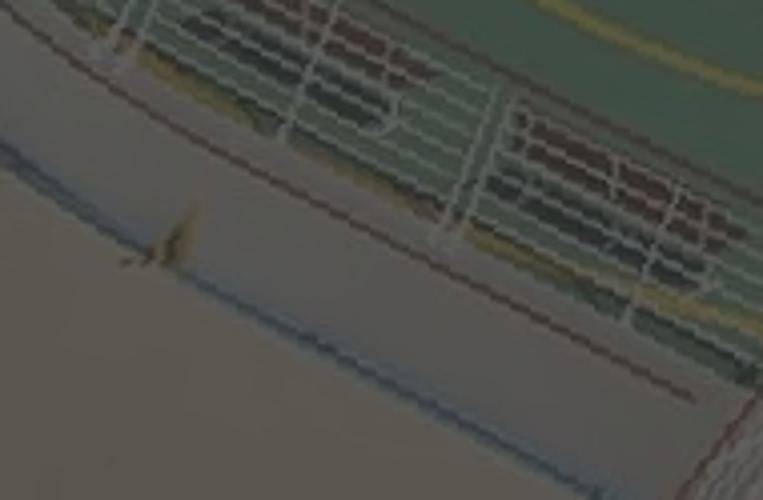Apron: (523, 1, 761, 115)
